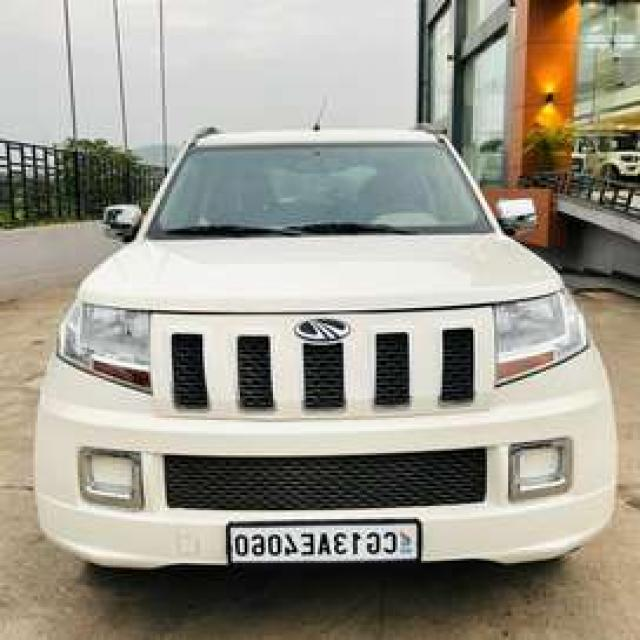license_plate: (221, 515, 428, 572)
